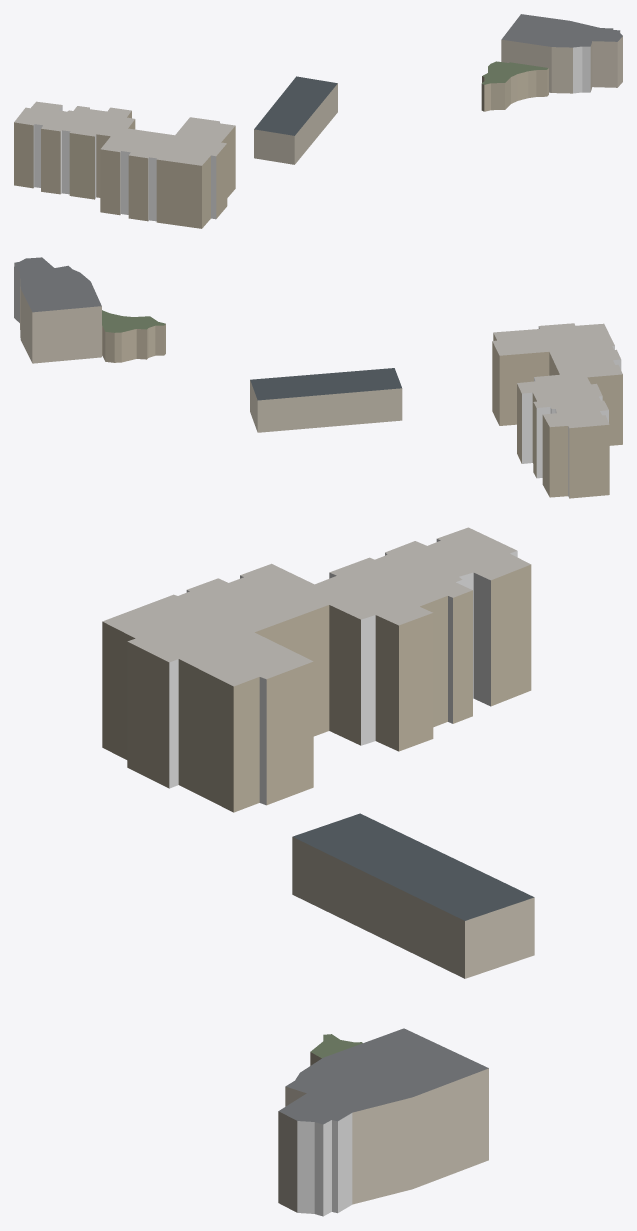
3 views of the same model, one above another, from view 1: azimuth 30°, elevation 25°; view 2: azimuth 150°, elevation 25°; view 3: azimuth 270°, elevation 25° (orthographic). The views are drawn at different scales.
Visible parts, largest first — view 1: tuile; view 2: tuile; view 3: tuile.
Boxes of the visible parts, x1=… form: tuile: x1=14, y1=14, x2=622, y2=228; tuile: x1=14, y1=257, x2=622, y2=498; tuile: x1=102, y1=527, x2=534, y2=1216.
Size of the model in its own units: 153 by 17.66 by 50.3.
